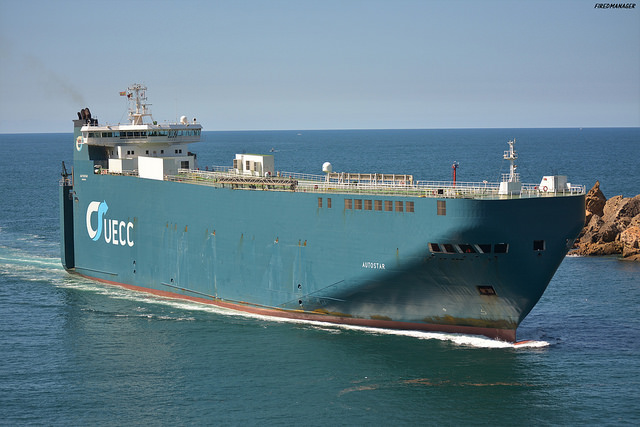PCC: (55, 84, 590, 356)
